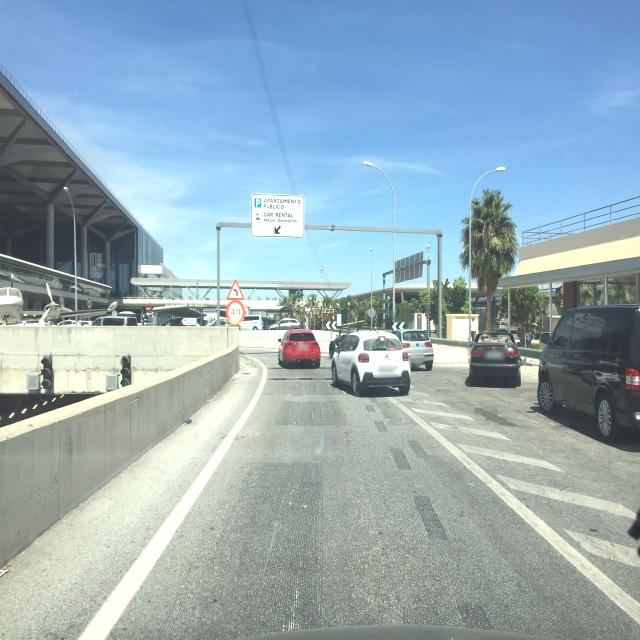car: (536, 303, 640, 442), (331, 328, 412, 396), (469, 329, 522, 386), (393, 327, 434, 371), (277, 328, 321, 368), (328, 332, 356, 358), (93, 314, 138, 327), (239, 315, 263, 331), (275, 317, 300, 330)
